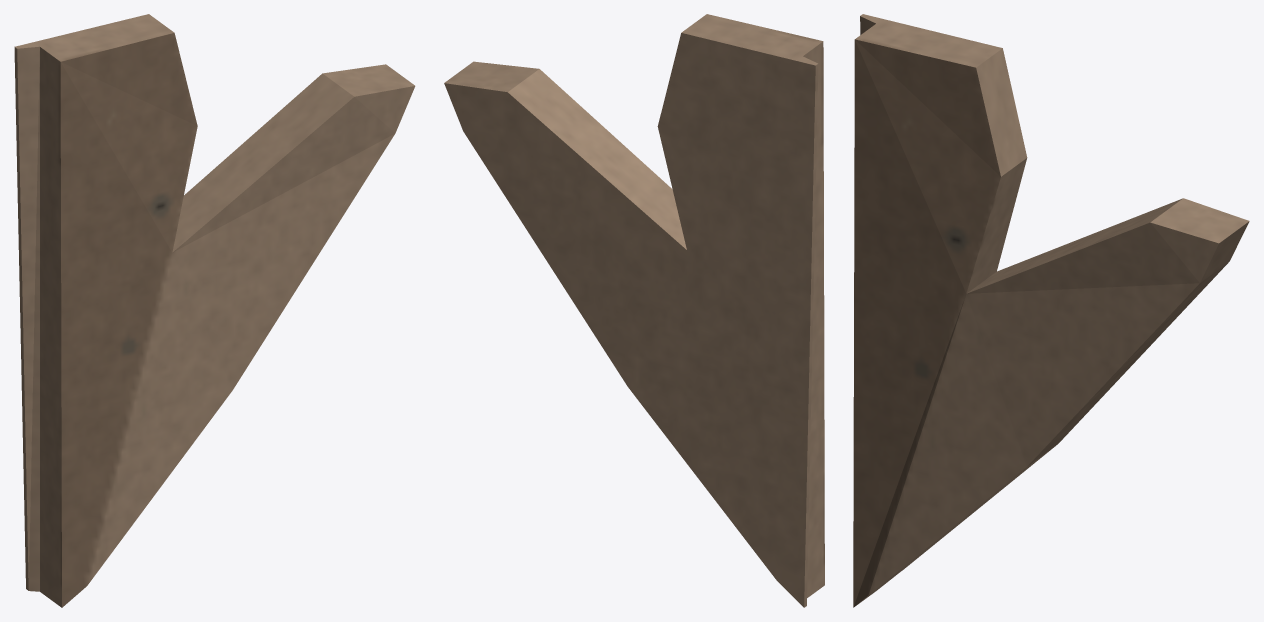
The model's file is lower_armor_R.obj.
3 renders of one model, left to right at view 1: azimuth 30°, elevation 25°; view 2: azimuth 150°, elevation 25°; view 3: azimuth 330°, elevation 25°, orthographic. The views are drawn at different scales.
Visible parts, largest first — view 1: lower_armor_R; view 2: lower_armor_R; view 3: lower_armor_R.
Part boxes in pixels (x1,y1,x2,y2): lower_armor_R: (14, 14, 415, 607); lower_armor_R: (444, 14, 824, 607); lower_armor_R: (853, 14, 1249, 607).
Bounding box in the file's own units: 1.03 × 1.44 × 0.161.
1 material, 1 textured.
